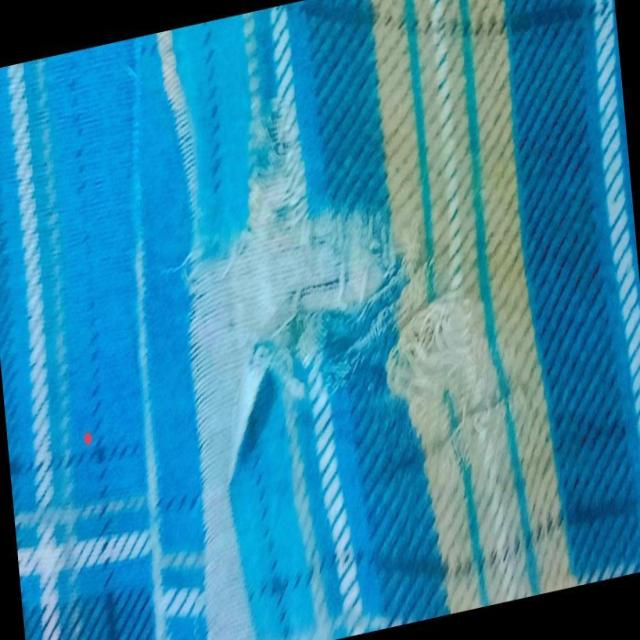cut: (204, 102, 392, 378)
